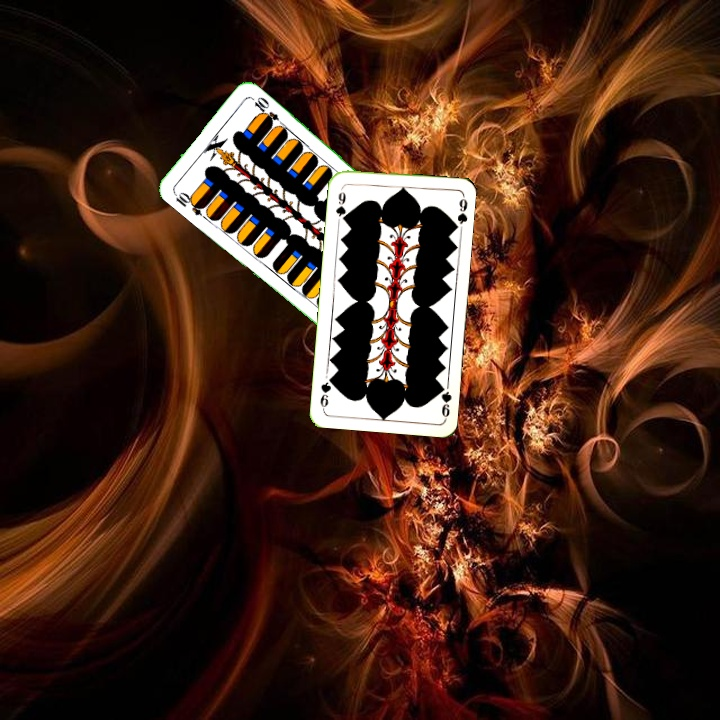E10: (169, 187, 207, 218)
G9: (435, 380, 454, 421), (332, 183, 349, 224)
